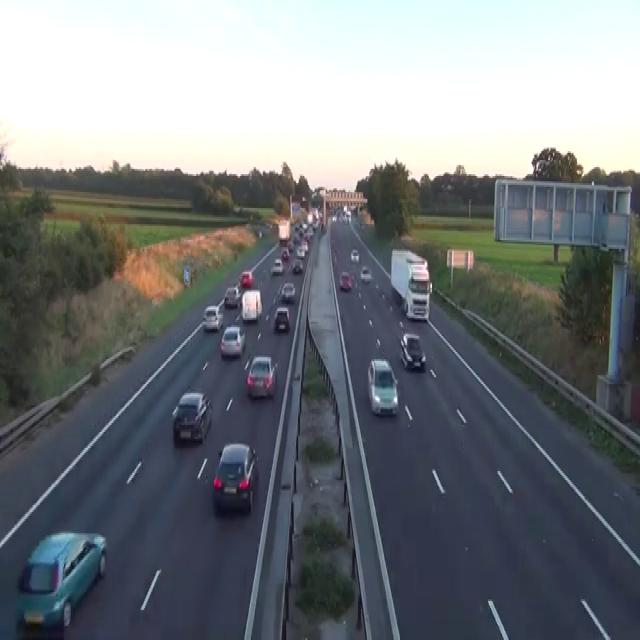Car: (16, 530, 106, 629), (212, 441, 258, 514), (171, 391, 212, 443), (367, 357, 398, 416), (246, 354, 277, 398), (399, 332, 426, 370), (402, 284, 429, 320), (219, 326, 245, 358), (202, 304, 223, 331), (224, 284, 240, 308), (332, 204, 351, 224), (274, 306, 289, 330), (281, 281, 295, 302), (339, 270, 352, 290), (238, 270, 253, 286), (270, 258, 283, 274), (360, 265, 371, 283), (292, 258, 303, 274), (350, 249, 359, 263), (331, 247, 337, 267), (296, 245, 305, 258), (281, 247, 289, 260), (305, 229, 313, 240), (287, 240, 294, 251), (279, 237, 286, 246), (345, 208, 351, 217), (301, 222, 307, 231), (302, 240, 308, 249), (258, 230, 262, 237), (332, 215, 336, 221)
Truck: (390, 247, 432, 320), (241, 290, 262, 322), (278, 219, 290, 245)
